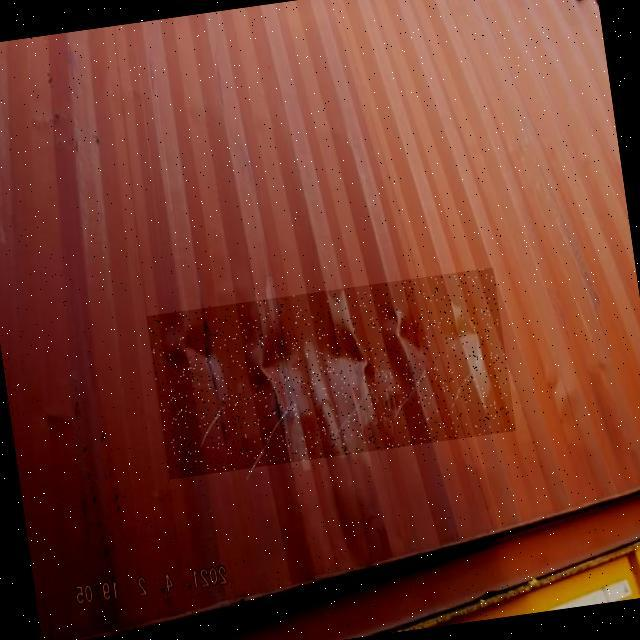dent: (148, 269, 518, 481)
